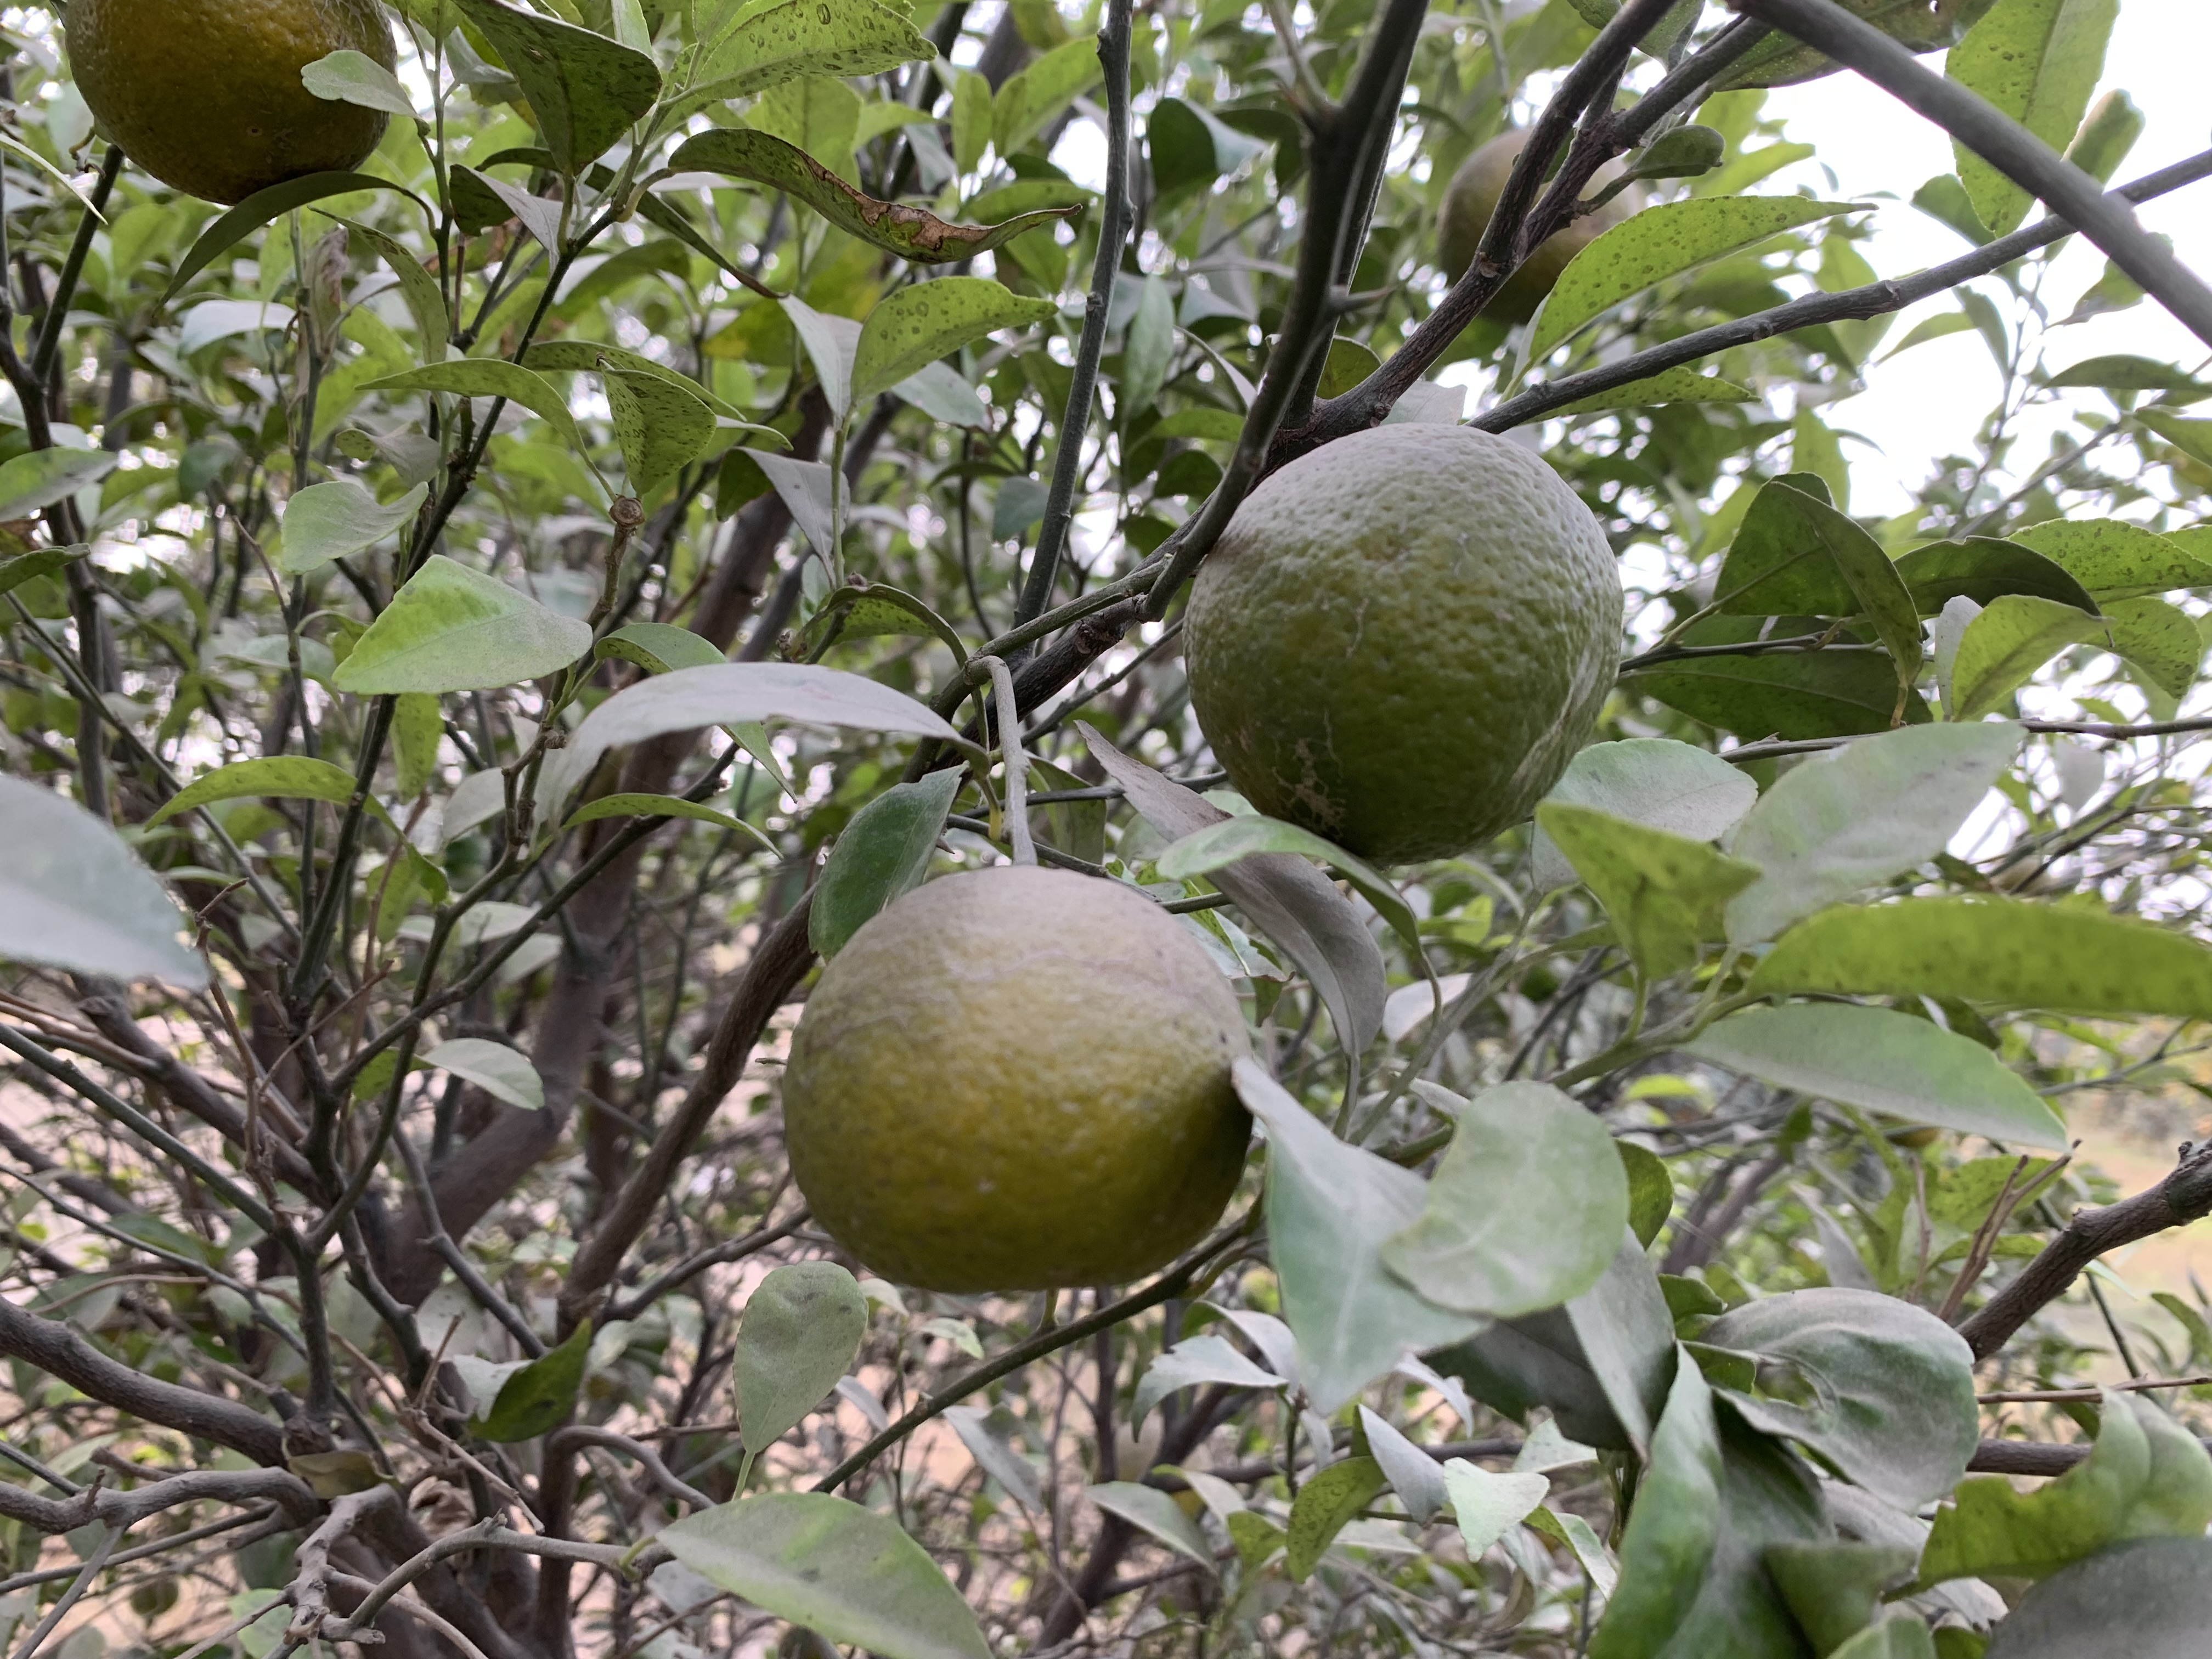orange: (784, 864, 1251, 1293), (1183, 420, 1611, 854), (64, 5, 395, 197), (1433, 124, 1642, 322)
